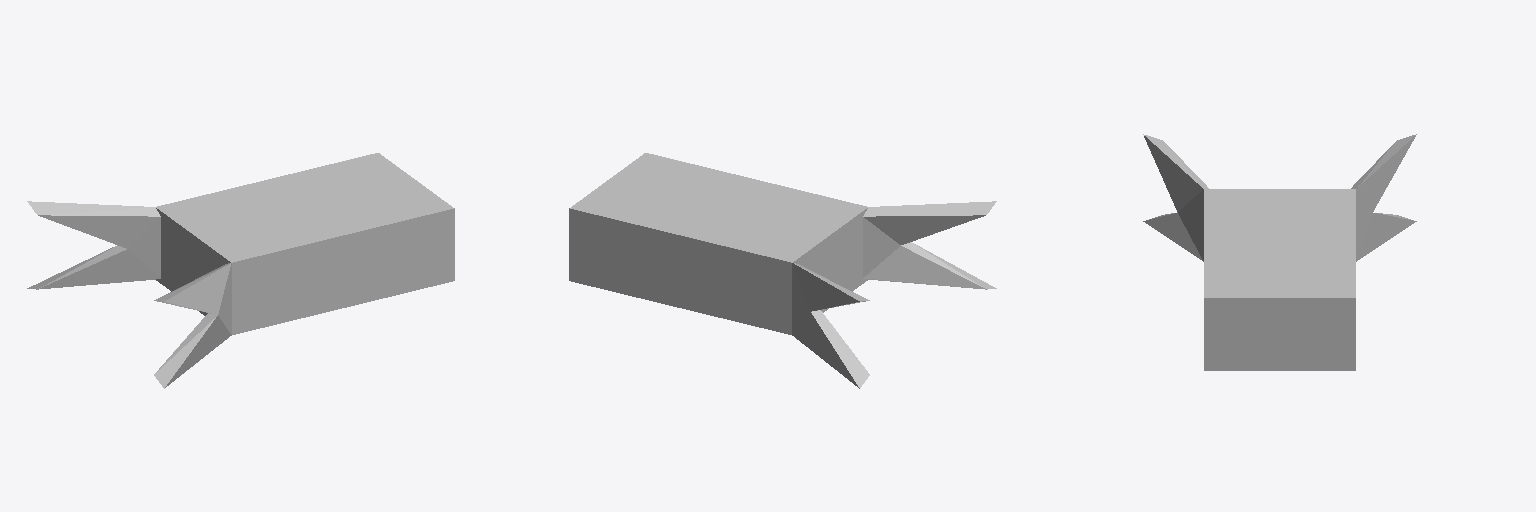
The model's file is tazer.obj.
3 renders of one model, left to right at view 1: azimuth 30°, elevation 25°; view 2: azimuth 150°, elevation 25°; view 3: azimuth 270°, elevation 25°, orthographic.
Visible parts, largest first — view 1: Cube; view 2: Cube; view 3: Cube.
Boxes of the visible parts, x1,y1,x2,y2 form: Cube: [27, 153, 454, 388]; Cube: [569, 153, 996, 388]; Cube: [1143, 134, 1416, 370].
Size of the model in its own units: 0.3434 by 0.0893 by 0.2542.